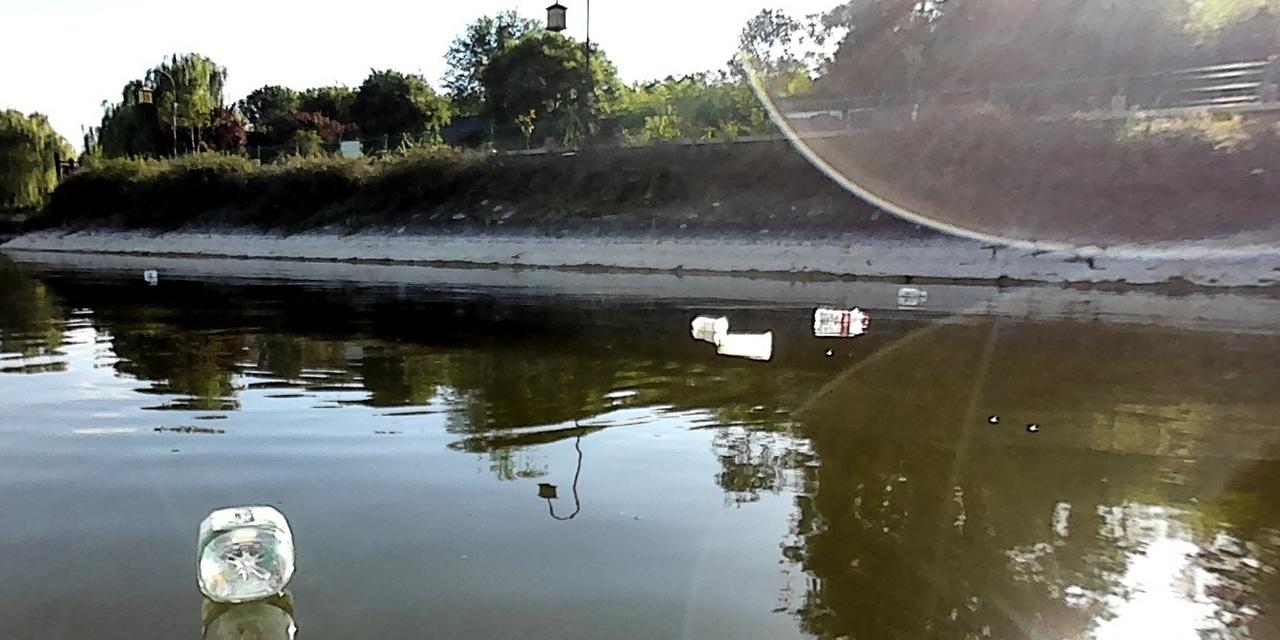bottle: (190, 499, 297, 604), (712, 330, 778, 358), (809, 305, 869, 326), (688, 312, 730, 334), (894, 284, 929, 298), (139, 266, 157, 280)
